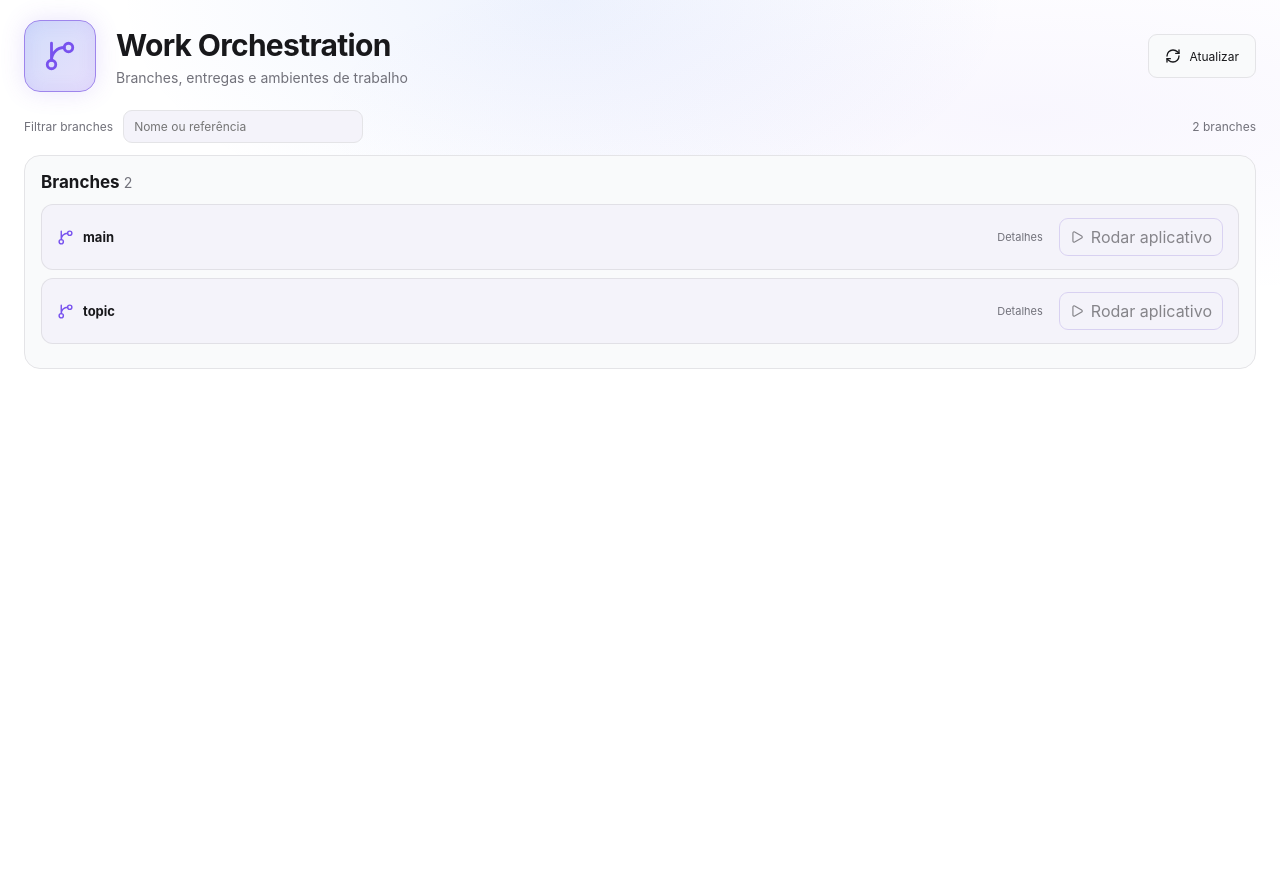
Test case: keeps empty UNAVAILABLE coverage inconclusive with reason and observation
This screenshot has width=1280, height=870.
Click the text "main": point(98, 237) [83,229,114,245]
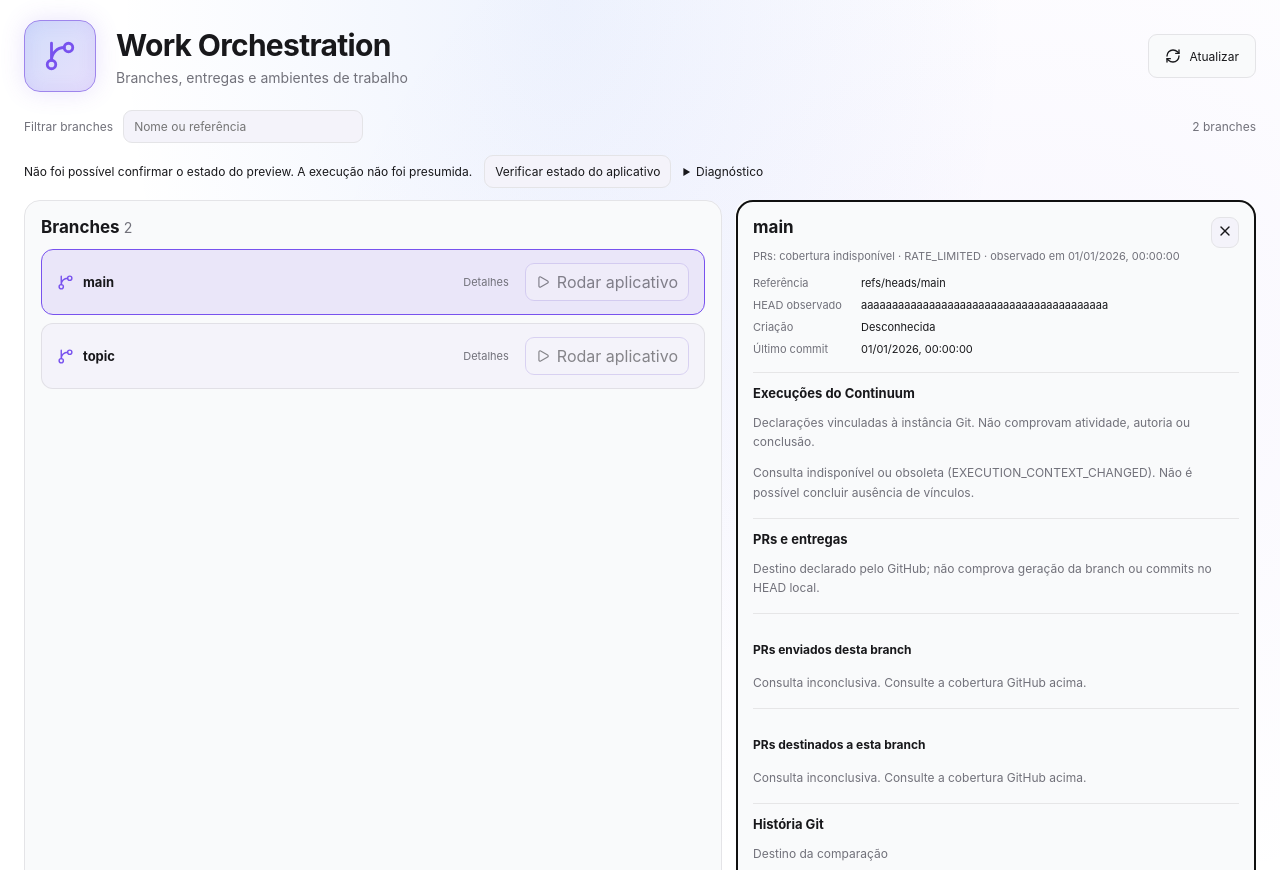
Now the text "PRs: cobertura indisponível · RATE_LIMITED · observado em 01/01/2026, 00:00:00" is shown, box [753,249,1239,265]
Now the text "Consulta inconclusiva. Consulte a cobertura GitHub acima." is shown 2 times, box [753,675,1086,690]; [753,770,1086,785]
